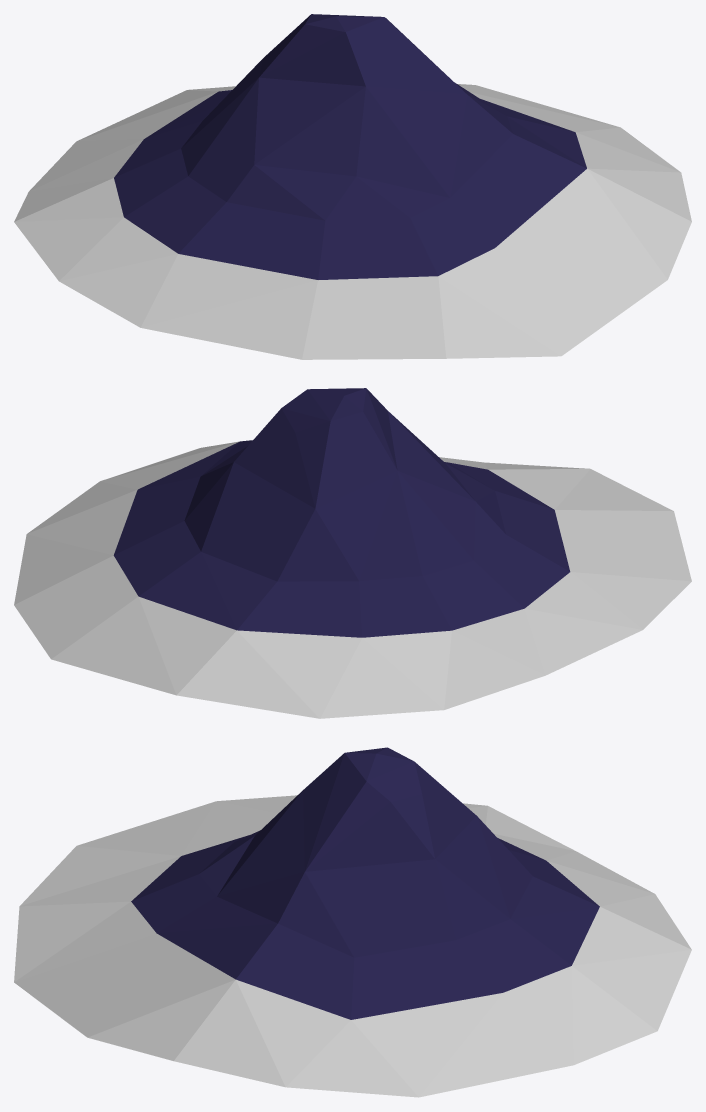
The model's file is OM_OREHEAP_SMALL_01.OBJ.
The picture shows the model from 3 angles, top to bottom: view 1: azimuth 30°, elevation 25°; view 2: azimuth 150°, elevation 25°; view 3: azimuth 270°, elevation 25°; orthographic projection. The views are drawn at different scales.
Parts seen in each view (by area): view 1: OM_OREHEAP_SMALL_01; view 2: OM_OREHEAP_SMALL_01; view 3: OM_OREHEAP_SMALL_01.
Boxes of the visible parts, left/top/right/bottom form: OM_OREHEAP_SMALL_01: left=14, top=14, right=691, bottom=359; OM_OREHEAP_SMALL_01: left=14, top=388, right=691, bottom=718; OM_OREHEAP_SMALL_01: left=14, top=747, right=691, bottom=1097.
Bounding box in the file's own units: 5.81 × 1.99 × 5.82.
